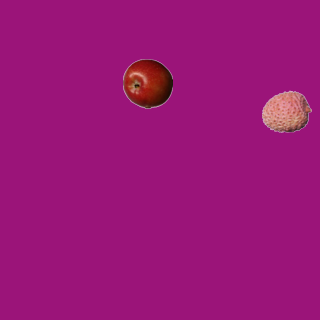Apple Braeburn: (122, 58, 172, 108)
Lychee: (261, 86, 311, 136)
